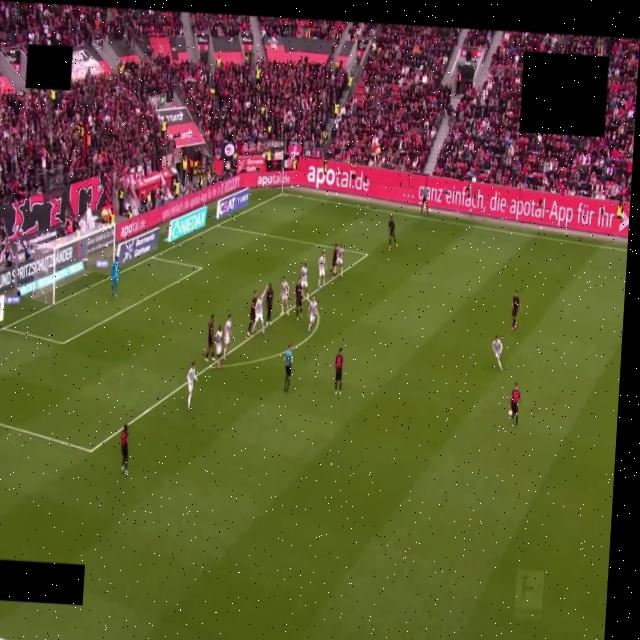ball: (508, 410, 512, 416)
player: (252, 287, 267, 334), (187, 363, 197, 411), (510, 383, 521, 426), (204, 315, 214, 362), (247, 290, 257, 336), (317, 251, 328, 289), (511, 290, 521, 330), (299, 262, 310, 298), (308, 296, 318, 334), (335, 348, 343, 394), (492, 335, 502, 370), (121, 424, 128, 473), (265, 283, 273, 324), (111, 256, 119, 297), (295, 280, 303, 320), (281, 277, 289, 314), (215, 326, 222, 368), (224, 315, 231, 357), (388, 216, 397, 248), (331, 245, 338, 276), (337, 244, 343, 276)
referee: (284, 345, 292, 392)
